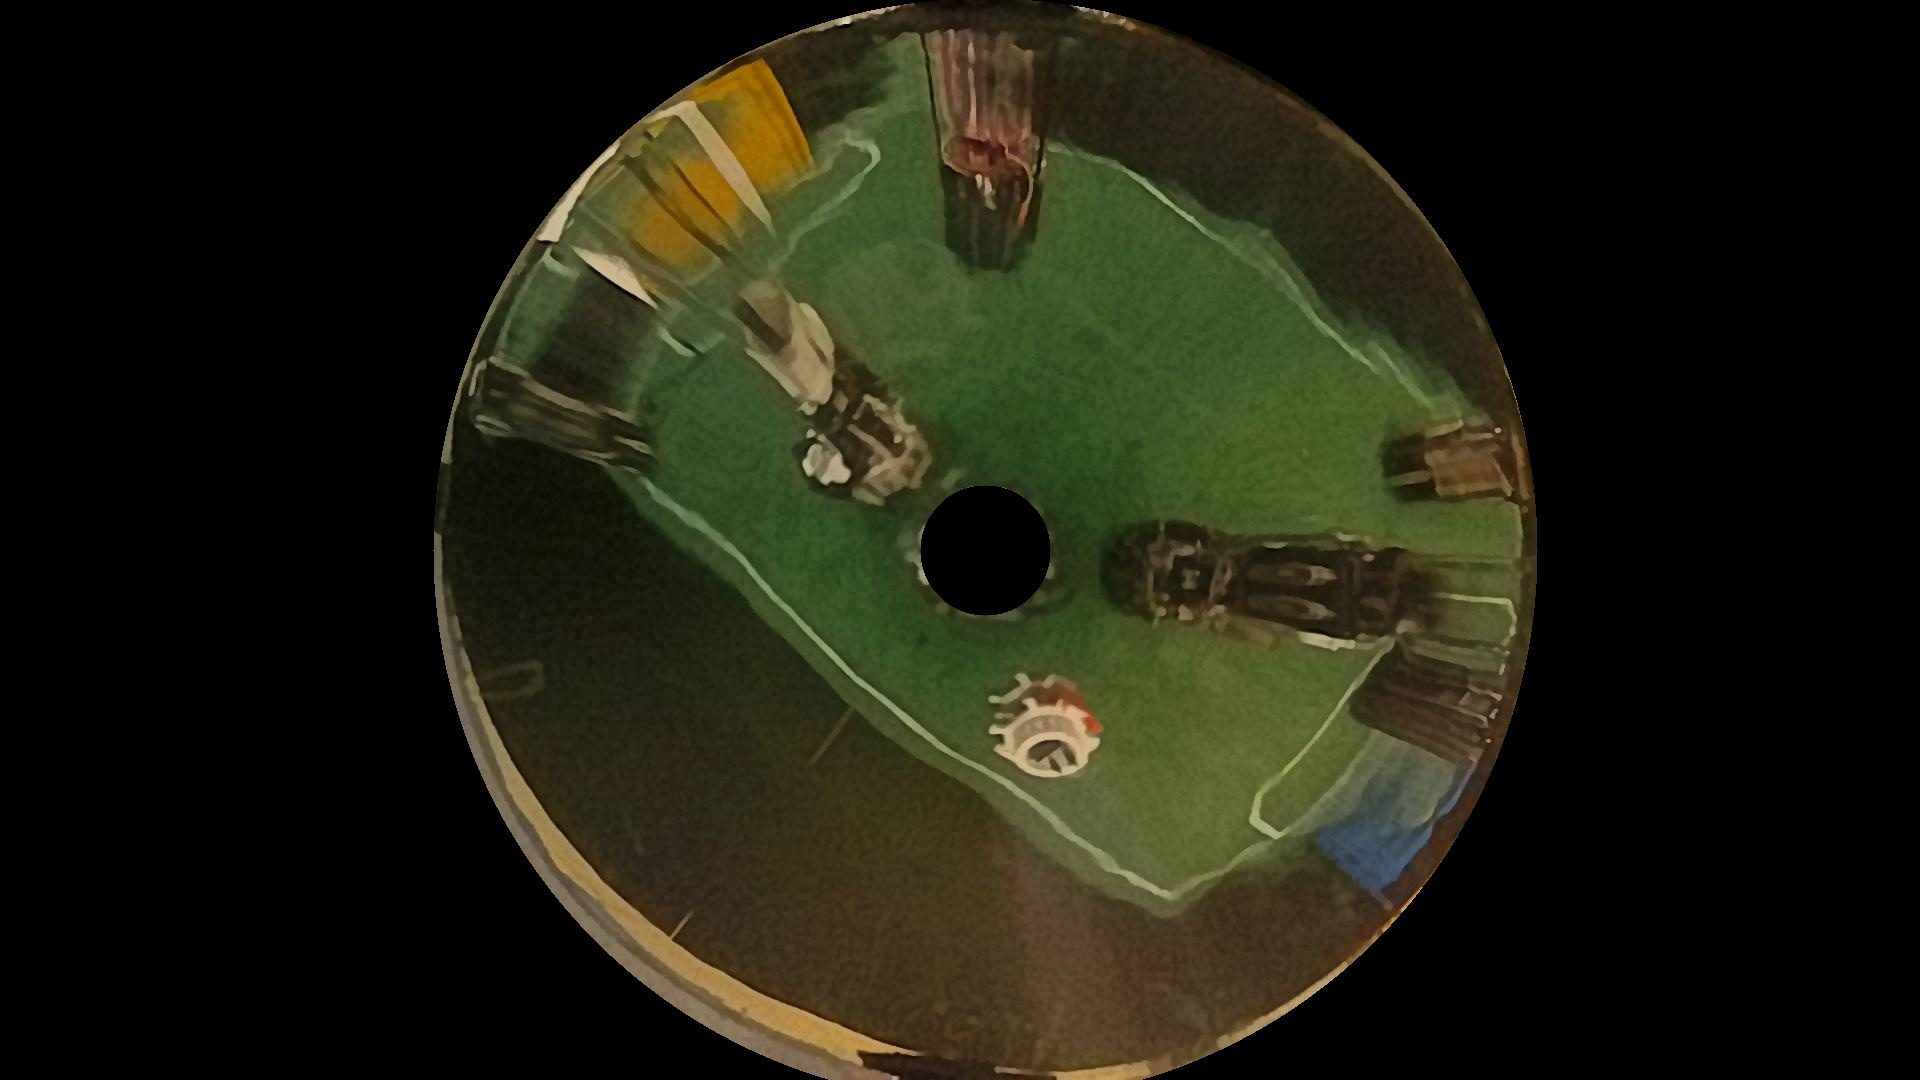blue-goal: (1300, 735, 1483, 883)
robots: (653, 205, 985, 493), (1093, 510, 1437, 643), (918, 10, 1053, 260), (445, 350, 640, 473), (1360, 647, 1517, 757), (988, 667, 1123, 785), (1382, 408, 1523, 510)
yellow-goal: (567, 107, 820, 253)
